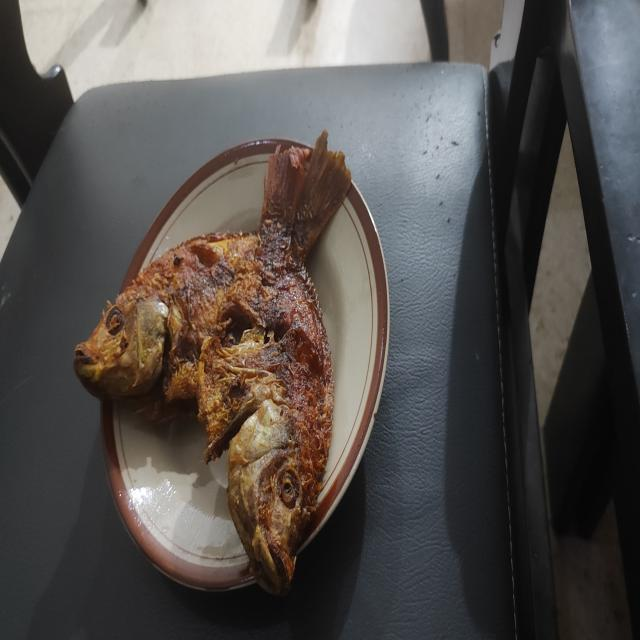ikan_mujair: (74, 131, 351, 398), (197, 146, 334, 594)
